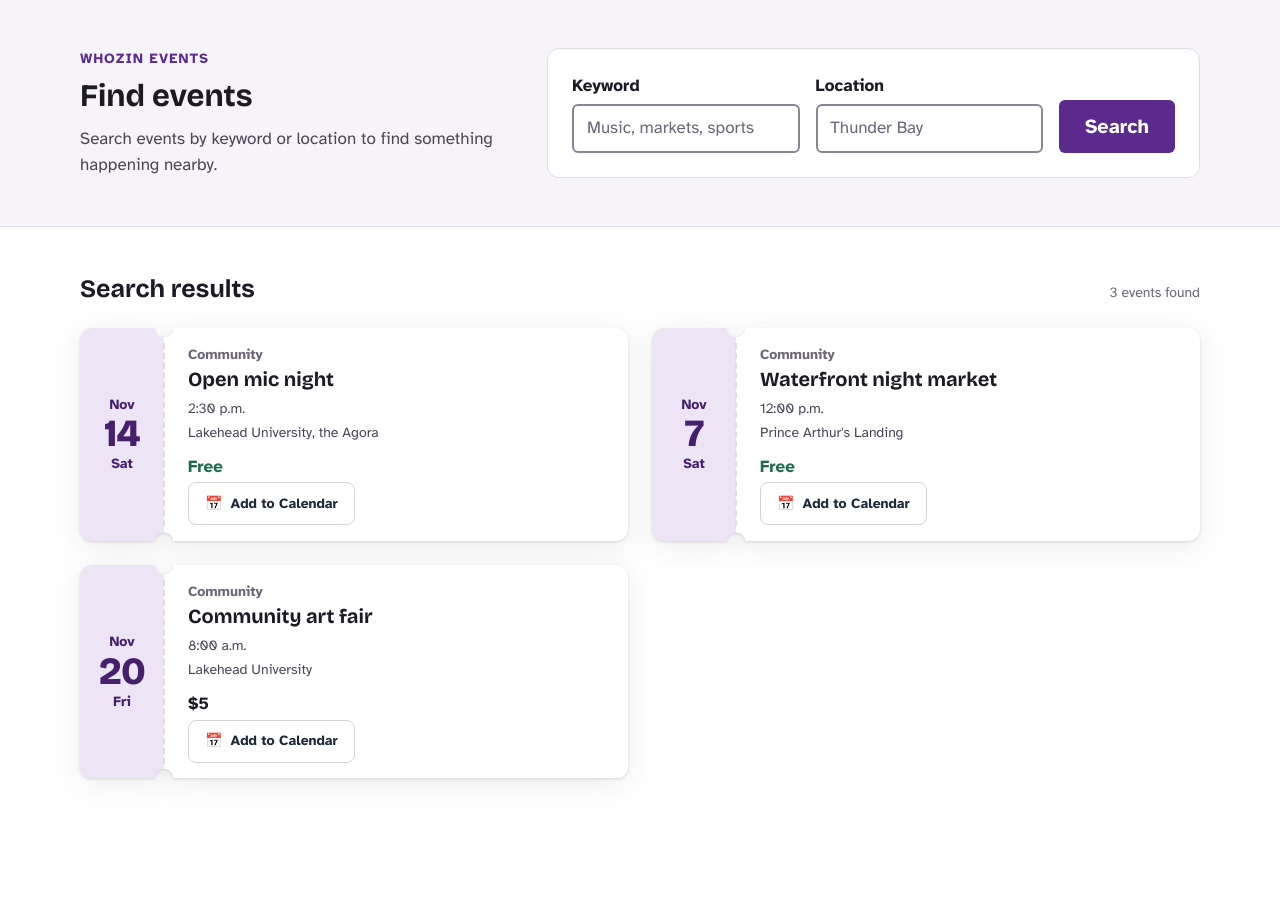
SearchEvents page › updates results after submitting the search form
This screenshot has width=1280, height=900.
expect the text "3 events found" is shown: met, box [1110,282,1200,304]
Type "art" into the search field labelled "Keyword".
click(686, 129); type("art")  # box [572,104,800,153]
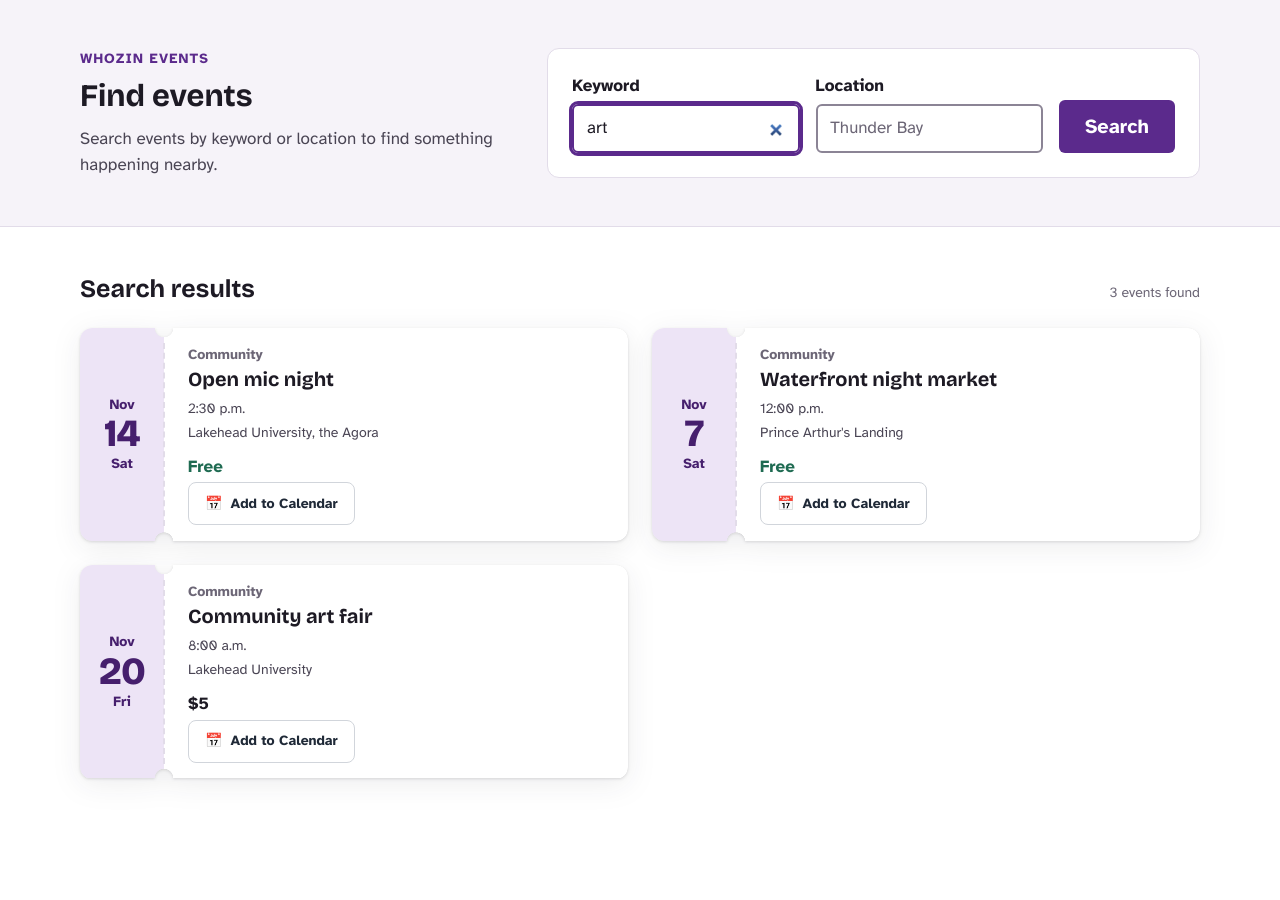
Click the button "Search".
click(1117, 126)  # box [1059,100,1175,153]
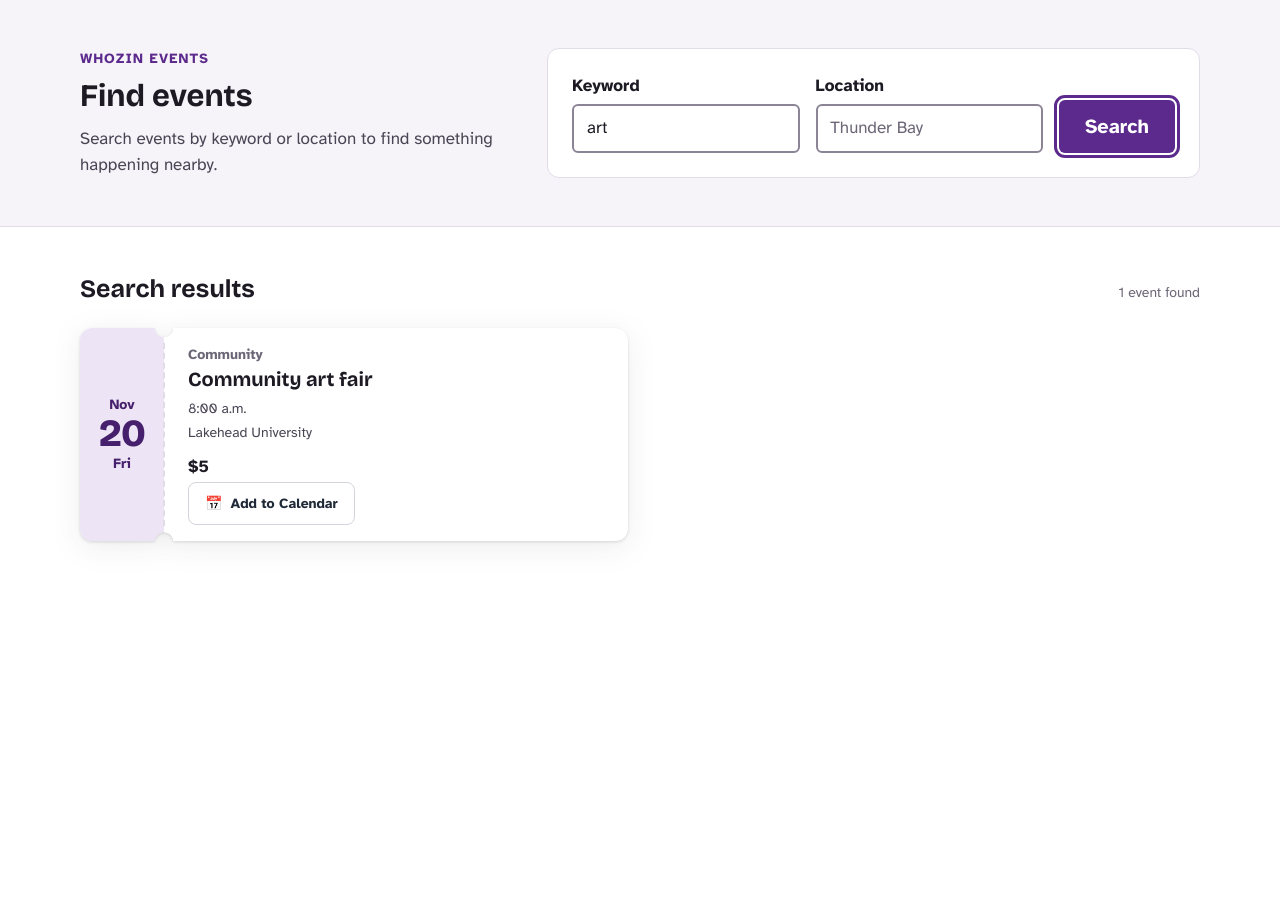
expect the link "Community art fair" is shown: met, box [188,367,373,391]
expect the text "1 event found" is shown: met, box [1119,282,1200,304]
